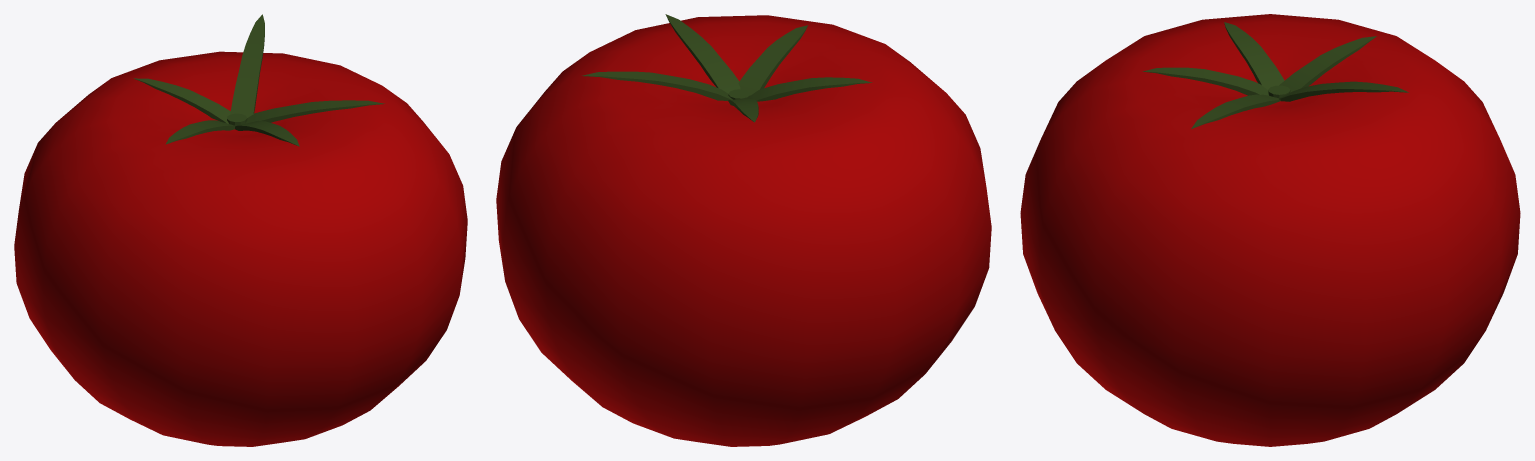
The model's file is tomato_01.fbx.
3 views of the same model, side by side, from view 1: azimuth 30°, elevation 25°; view 2: azimuth 150°, elevation 25°; view 3: azimuth 270°, elevation 25° (orthographic). The views are drawn at different scales.
Visible parts, largest first — view 1: tomatoBase, tomatoLeaf03, tomatoLeaf02, tomatoLeaf05, tomatoLeaf04, tomatoLeaf01; view 2: tomatoBase, tomatoLeaf02, tomatoLeaf01, tomatoLeaf03, tomatoLeaf04; view 3: tomatoBase, tomatoLeaf04, tomatoLeaf05, tomatoLeaf01, tomatoLeaf03, tomatoLeaf02.
Part boxes in pixels (left/top/right/bottom): tomatoBase: left=14, top=51, right=467, bottom=446; tomatoLeaf03: left=230, top=14, right=264, bottom=117; tomatoLeaf02: left=245, top=100, right=384, bottom=123; tomatoLeaf05: left=133, top=78, right=230, bottom=123; tomatoLeaf04: left=165, top=120, right=235, bottom=144; tomatoLeaf01: left=235, top=120, right=299, bottom=146; tomatoBase: left=496, top=15, right=991, bottom=446; tomatoLeaf02: left=665, top=14, right=740, bottom=93; tomatoLeaf01: left=738, top=25, right=807, bottom=95; tomatoLeaf03: left=582, top=71, right=732, bottom=100; tomatoLeaf04: left=750, top=77, right=872, bottom=101; tomatoBase: left=1020, top=14, right=1520, bottom=446; tomatoLeaf04: left=1224, top=22, right=1284, bottom=89; tomatoLeaf05: left=1279, top=36, right=1376, bottom=92; tomatoLeaf01: left=1142, top=67, right=1268, bottom=95; tomatoLeaf03: left=1279, top=81, right=1408, bottom=101; tomatoLeaf02: left=1191, top=94, right=1280, bottom=128.
Bounding box in the file's own units: 1.98 × 1.64 × 1.98.
